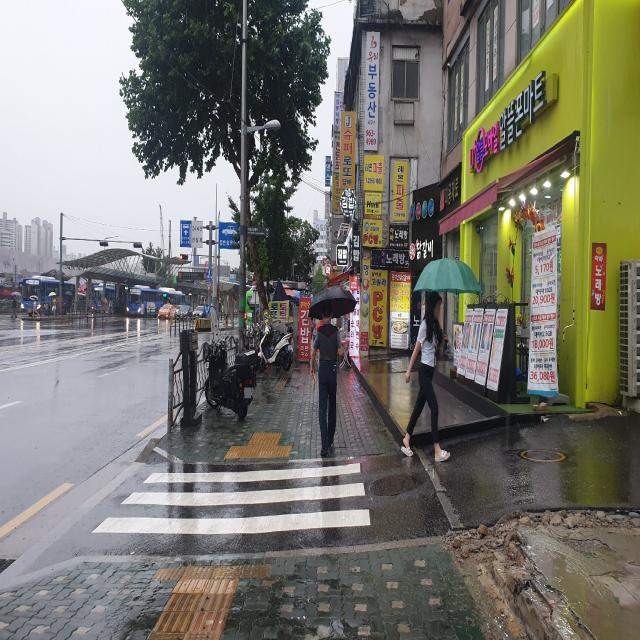횡단보도: (90, 460, 372, 538)
